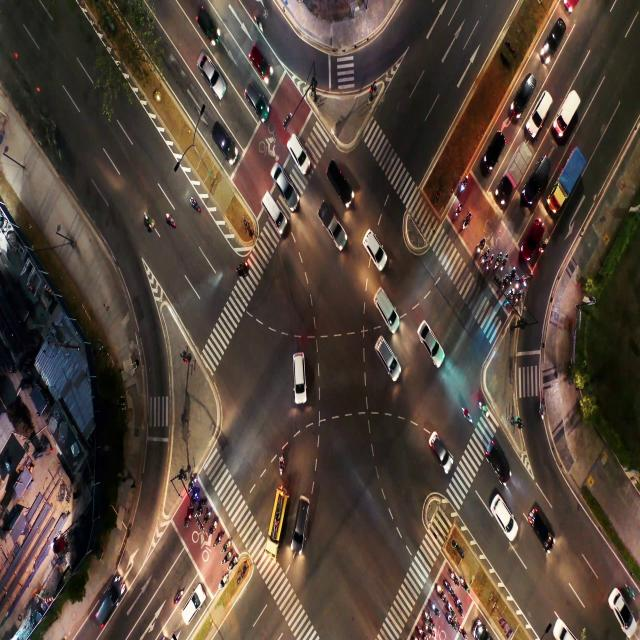bus: (272, 508, 282, 531)
car: (492, 495, 513, 524), (432, 437, 450, 468), (102, 587, 117, 621), (333, 162, 348, 194), (541, 516, 556, 548), (295, 358, 309, 392), (200, 58, 219, 82), (247, 85, 263, 113), (187, 599, 202, 628), (201, 9, 216, 37), (613, 593, 628, 619), (422, 329, 439, 351), (378, 342, 393, 363), (267, 194, 278, 222), (493, 448, 505, 472), (521, 81, 532, 107), (363, 233, 379, 250), (536, 162, 546, 189), (216, 128, 228, 150), (254, 53, 268, 71), (293, 140, 303, 164), (298, 504, 306, 534), (382, 297, 394, 317), (530, 225, 538, 248), (538, 102, 546, 124), (489, 144, 496, 168), (282, 175, 290, 195), (552, 28, 560, 42)
motorcycle: (479, 401, 488, 417), (464, 215, 472, 232), (256, 18, 264, 34), (215, 532, 222, 549), (145, 210, 152, 227), (461, 174, 468, 190), (514, 278, 522, 291), (280, 454, 286, 471), (464, 408, 471, 422), (192, 198, 200, 210), (478, 237, 484, 253), (238, 264, 248, 273), (166, 212, 172, 224), (453, 572, 459, 584), (176, 588, 181, 602), (187, 512, 192, 526), (439, 585, 444, 599), (455, 204, 461, 215), (461, 576, 467, 587), (211, 520, 215, 536), (483, 249, 487, 264), (503, 256, 507, 270), (222, 573, 226, 586), (526, 274, 530, 287), (223, 540, 228, 550), (542, 241, 546, 252), (488, 258, 492, 268), (457, 598, 461, 608), (449, 604, 453, 614), (448, 616, 453, 624), (460, 624, 464, 634), (417, 626, 422, 634), (193, 493, 197, 502), (223, 554, 227, 563), (432, 601, 436, 610), (190, 480, 194, 488), (230, 560, 234, 568), (503, 276, 507, 284), (446, 581, 450, 589), (511, 270, 514, 280), (425, 626, 430, 632), (498, 252, 500, 266), (199, 503, 202, 511), (205, 513, 208, 520), (427, 613, 430, 619), (517, 296, 519, 303), (510, 292, 512, 298)
truck: (322, 210, 346, 254), (563, 107, 578, 128), (509, 156, 521, 179), (564, 169, 574, 190)
